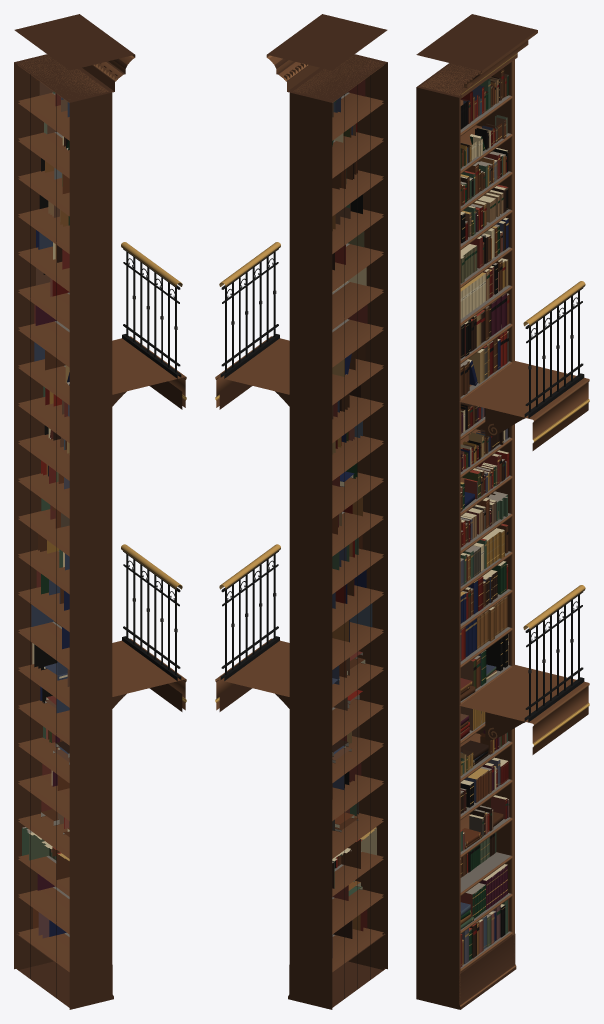
Rendered from library_wall@2.glb.
The picture shows the model from 3 angles, left to right: view 1: azimuth 30°, elevation 25°; view 2: azimuth 150°, elevation 25°; view 3: azimuth 330°, elevation 25°; orthographic projection.
Visible parts, largest first — view 1: regalwand; view 2: regalwand; view 3: regalwand.
Part boxes in pixels (x1=…): regalwand: x1=14, y1=14, x2=186, y2=1009; regalwand: x1=215, y1=14, x2=387, y2=1009; regalwand: x1=416, y1=14, x2=589, y2=1009.
Size of the model in its own units: 1.22 by 9.32 by 1.
